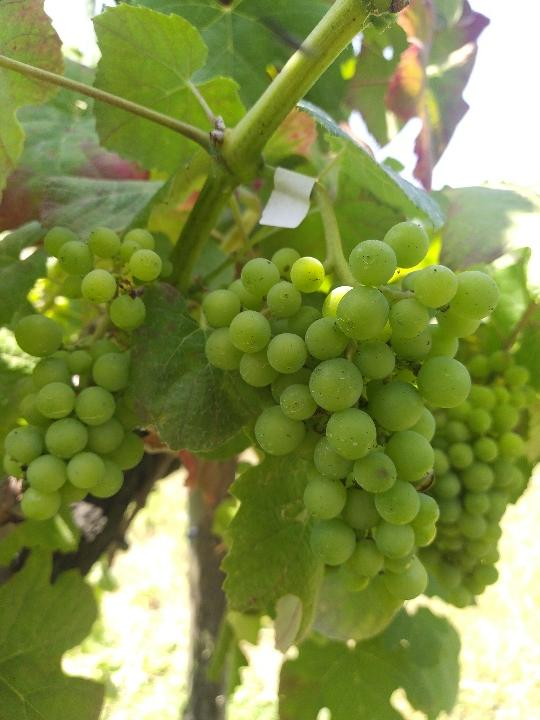grape: (199, 217, 499, 606)
